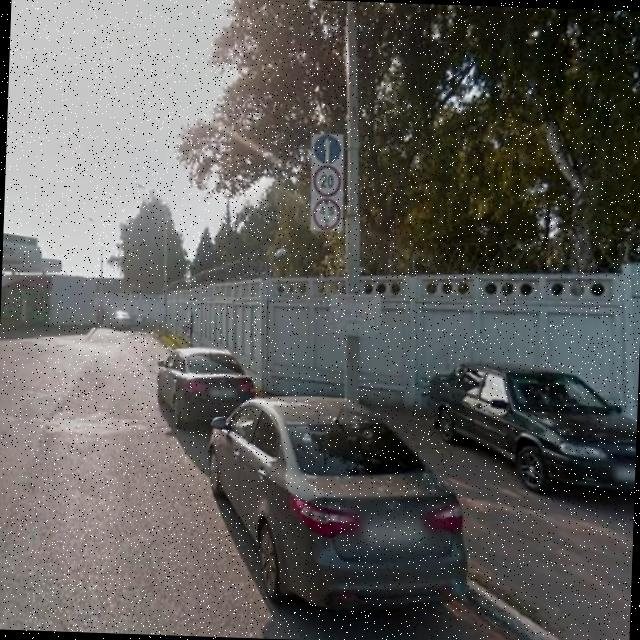Ograniczenie predkosci do 20: (310, 162, 345, 200)
